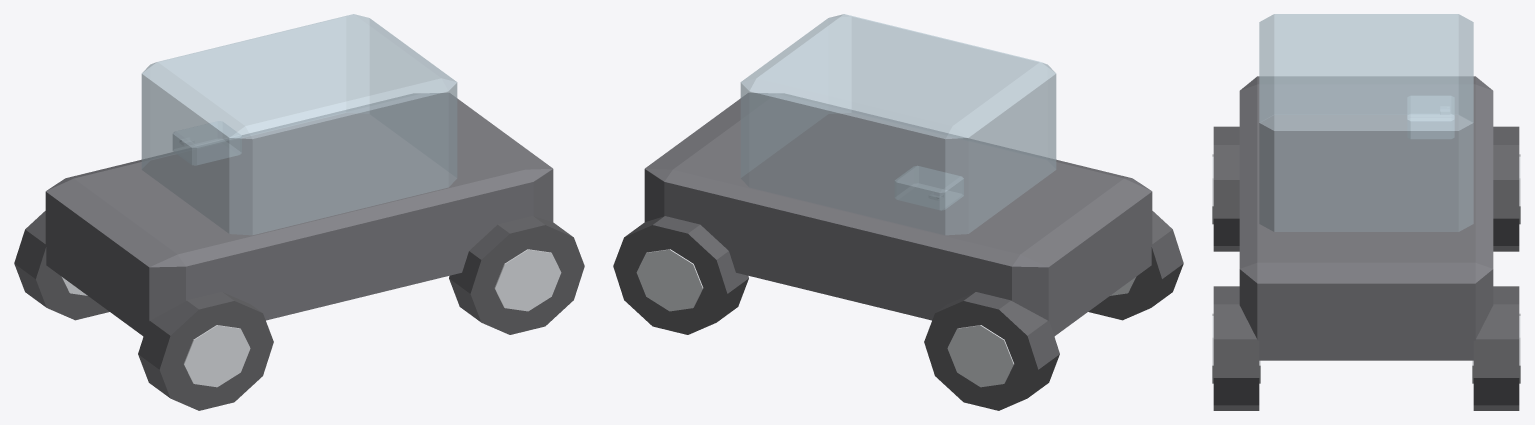
File: b07_towable_paddle_mortar_mixer.glb
The picture shows the model from 3 angles, left to right: view 1: azimuth 30°, elevation 25°; view 2: azimuth 150°, elevation 25°; view 3: azimuth 270°, elevation 25°; orthographic projection. The views are drawn at different scales.
Parts seen in each view (by area): view 1: b07_towable_paddle_mortar_mixer; view 2: b07_towable_paddle_mortar_mixer; view 3: b07_towable_paddle_mortar_mixer.
Boxes of the visible parts, box(x1,y1,x2,y2) form: b07_towable_paddle_mortar_mixer: box(14, 14, 584, 410); b07_towable_paddle_mortar_mixer: box(613, 14, 1183, 410); b07_towable_paddle_mortar_mixer: box(1212, 14, 1520, 410).
Bounding box in the file's own units: 3.03 × 1.67 × 1.81.
